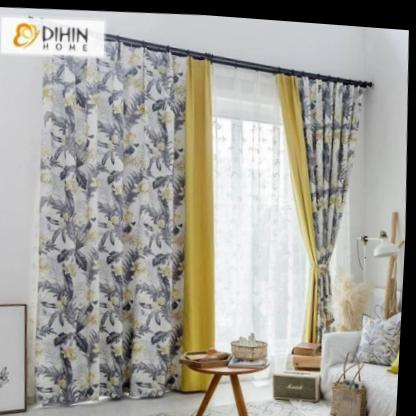Curtains: (32, 35, 215, 406), (276, 66, 370, 337)
